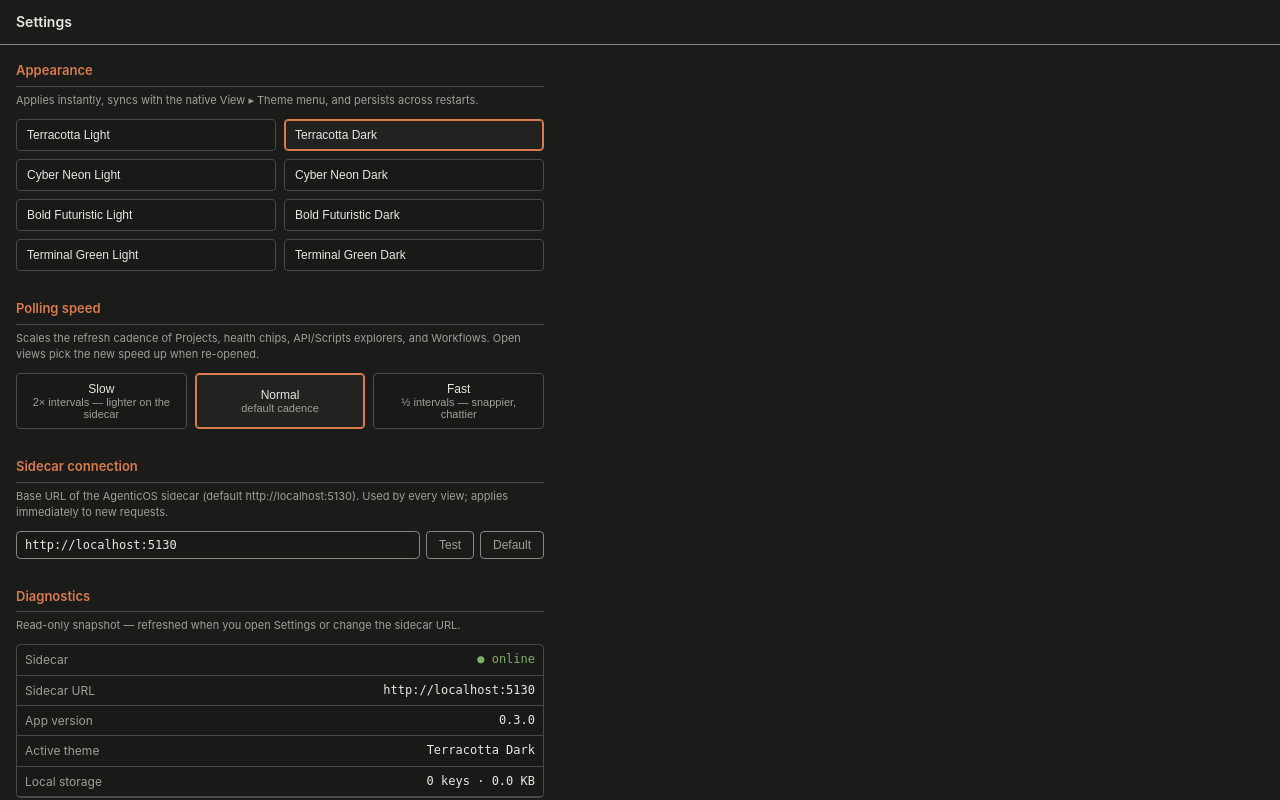
Test: EnvironmentPanel (Settings) › commits a valid sidecar URL on Enter (trailing slash stripped)
Replace the text in the field with test id "sidecar-url-input" with "http://myhost:6001/" at coordinates (218, 544), box [16,530,420,558]
Then press Enter
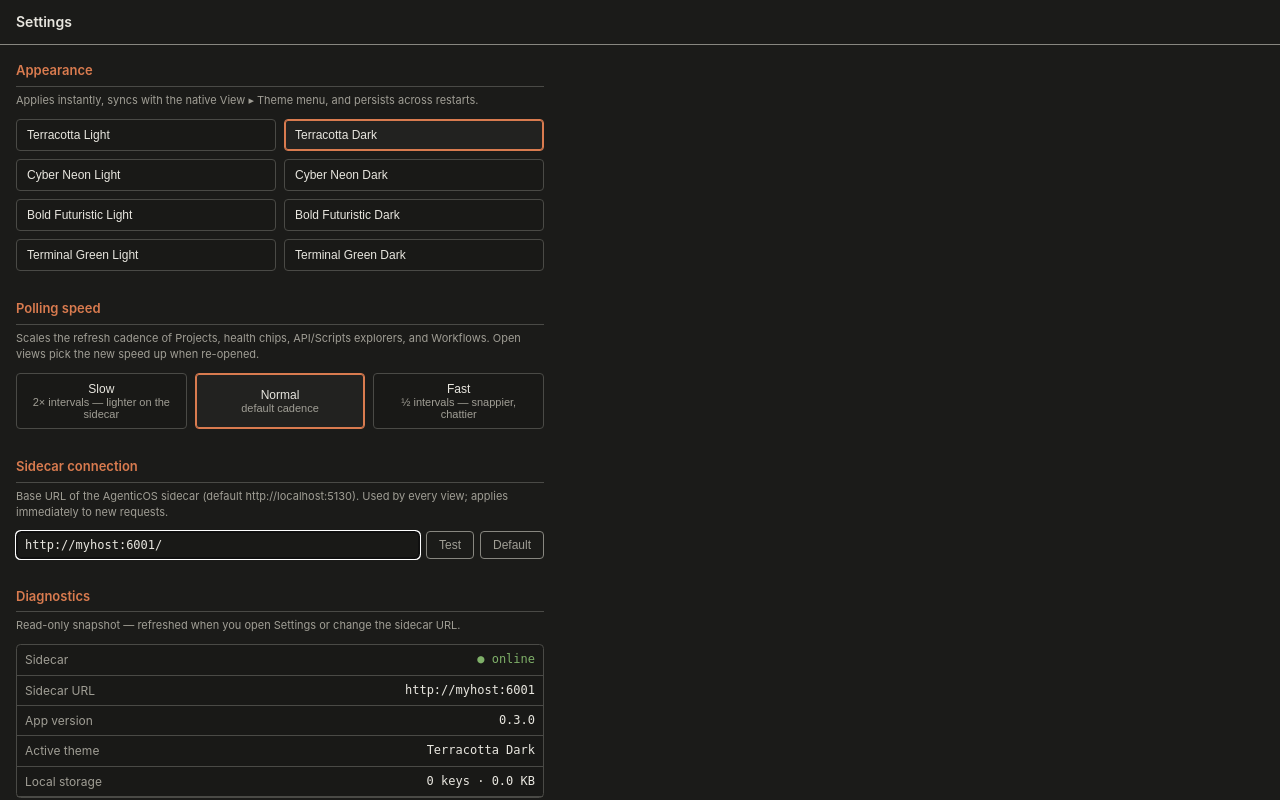
Expected: the text "http://myhost:6001" is shown, [405,682,535,699]
